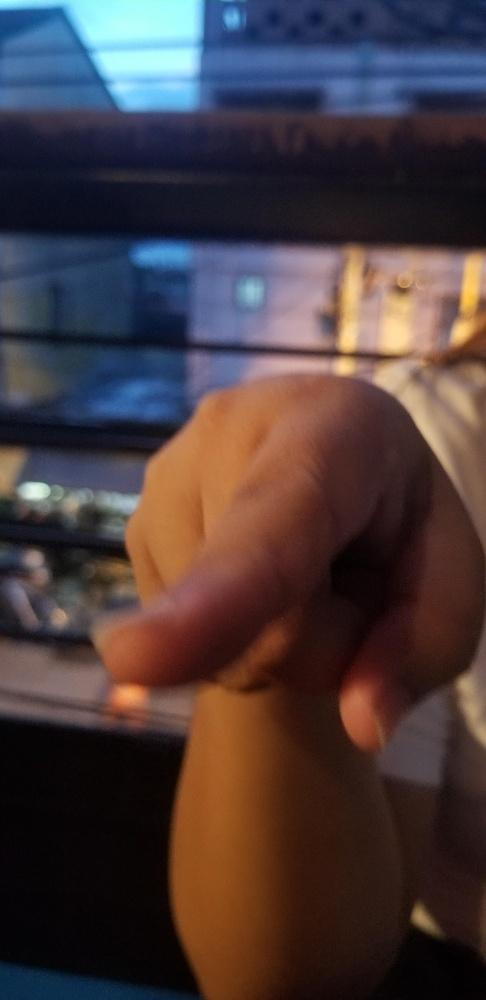z: (79, 368, 485, 756)
